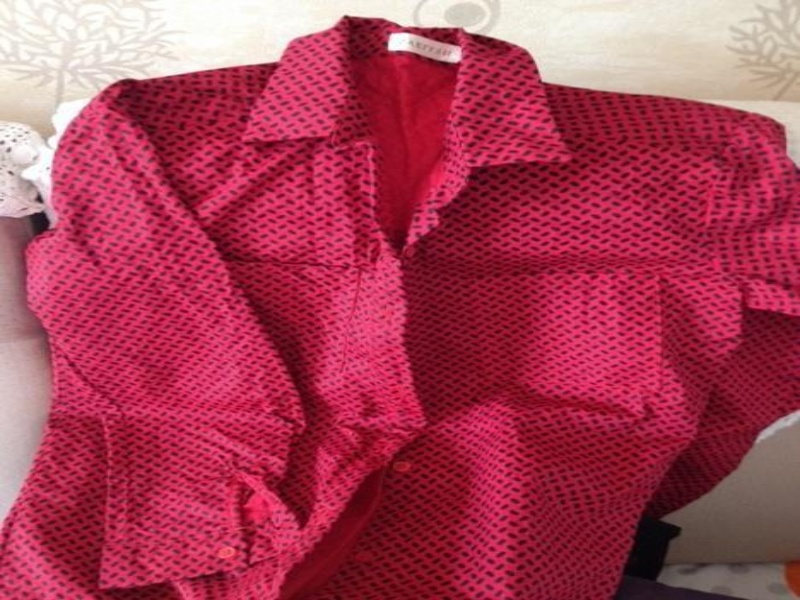long_sleeved_shirt: (0, 6, 798, 599)
